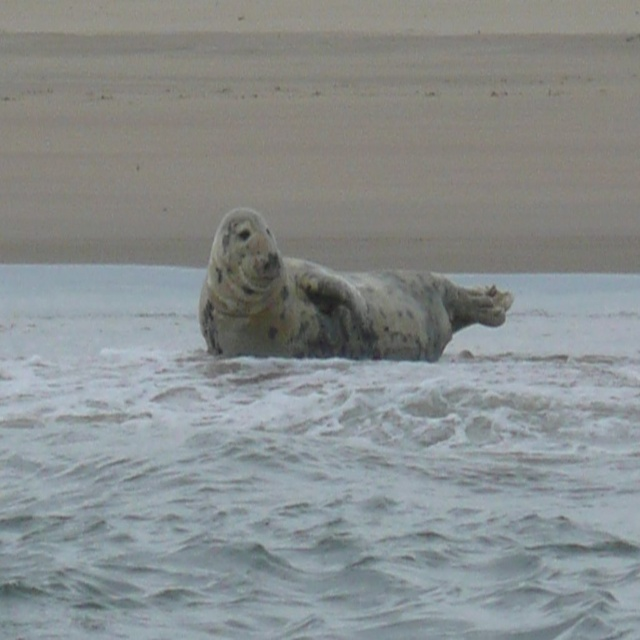Harbor seal: (197, 210, 515, 364)
